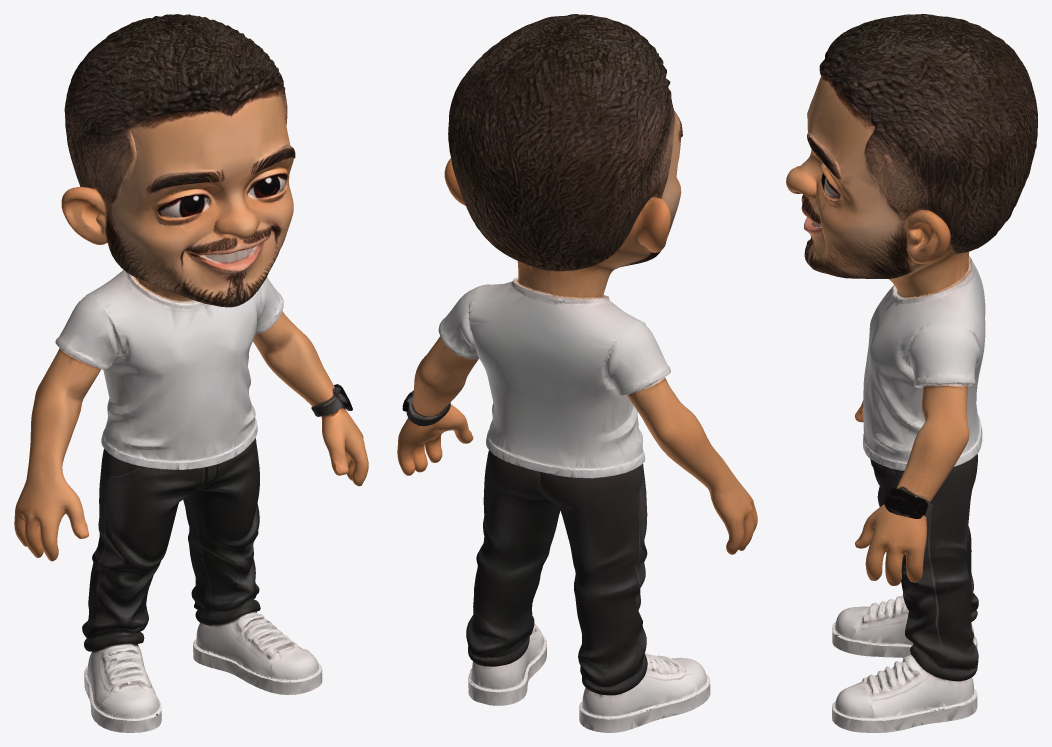
Rendered from boneco.glb.
3 renders of one model, left to right at view 1: azimuth 30°, elevation 25°; view 2: azimuth 150°, elevation 25°; view 3: azimuth 270°, elevation 25°, orthographic.
Bounding box in the file's own units: 0.9673 × 1.79 × 0.6224.
Materials: 1 (1 with a texture image).
